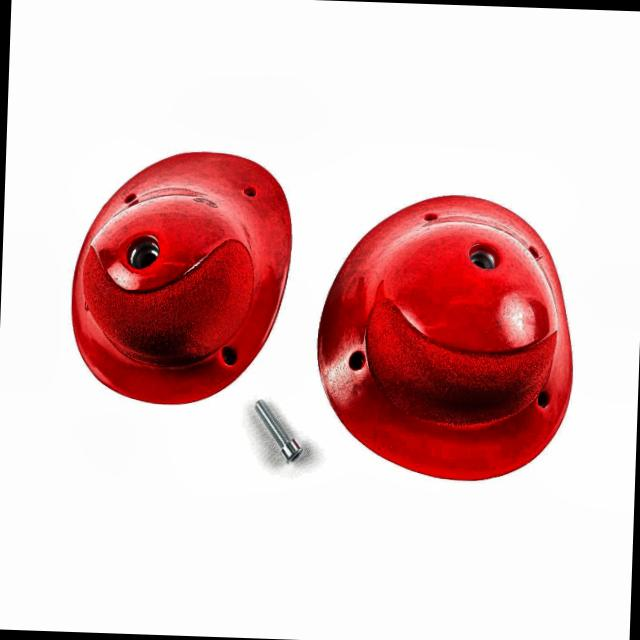Hold: (308, 187, 580, 488), (59, 140, 300, 412)
